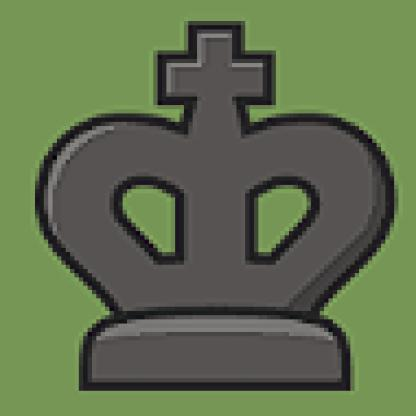Black King: (27, 11, 402, 396)
